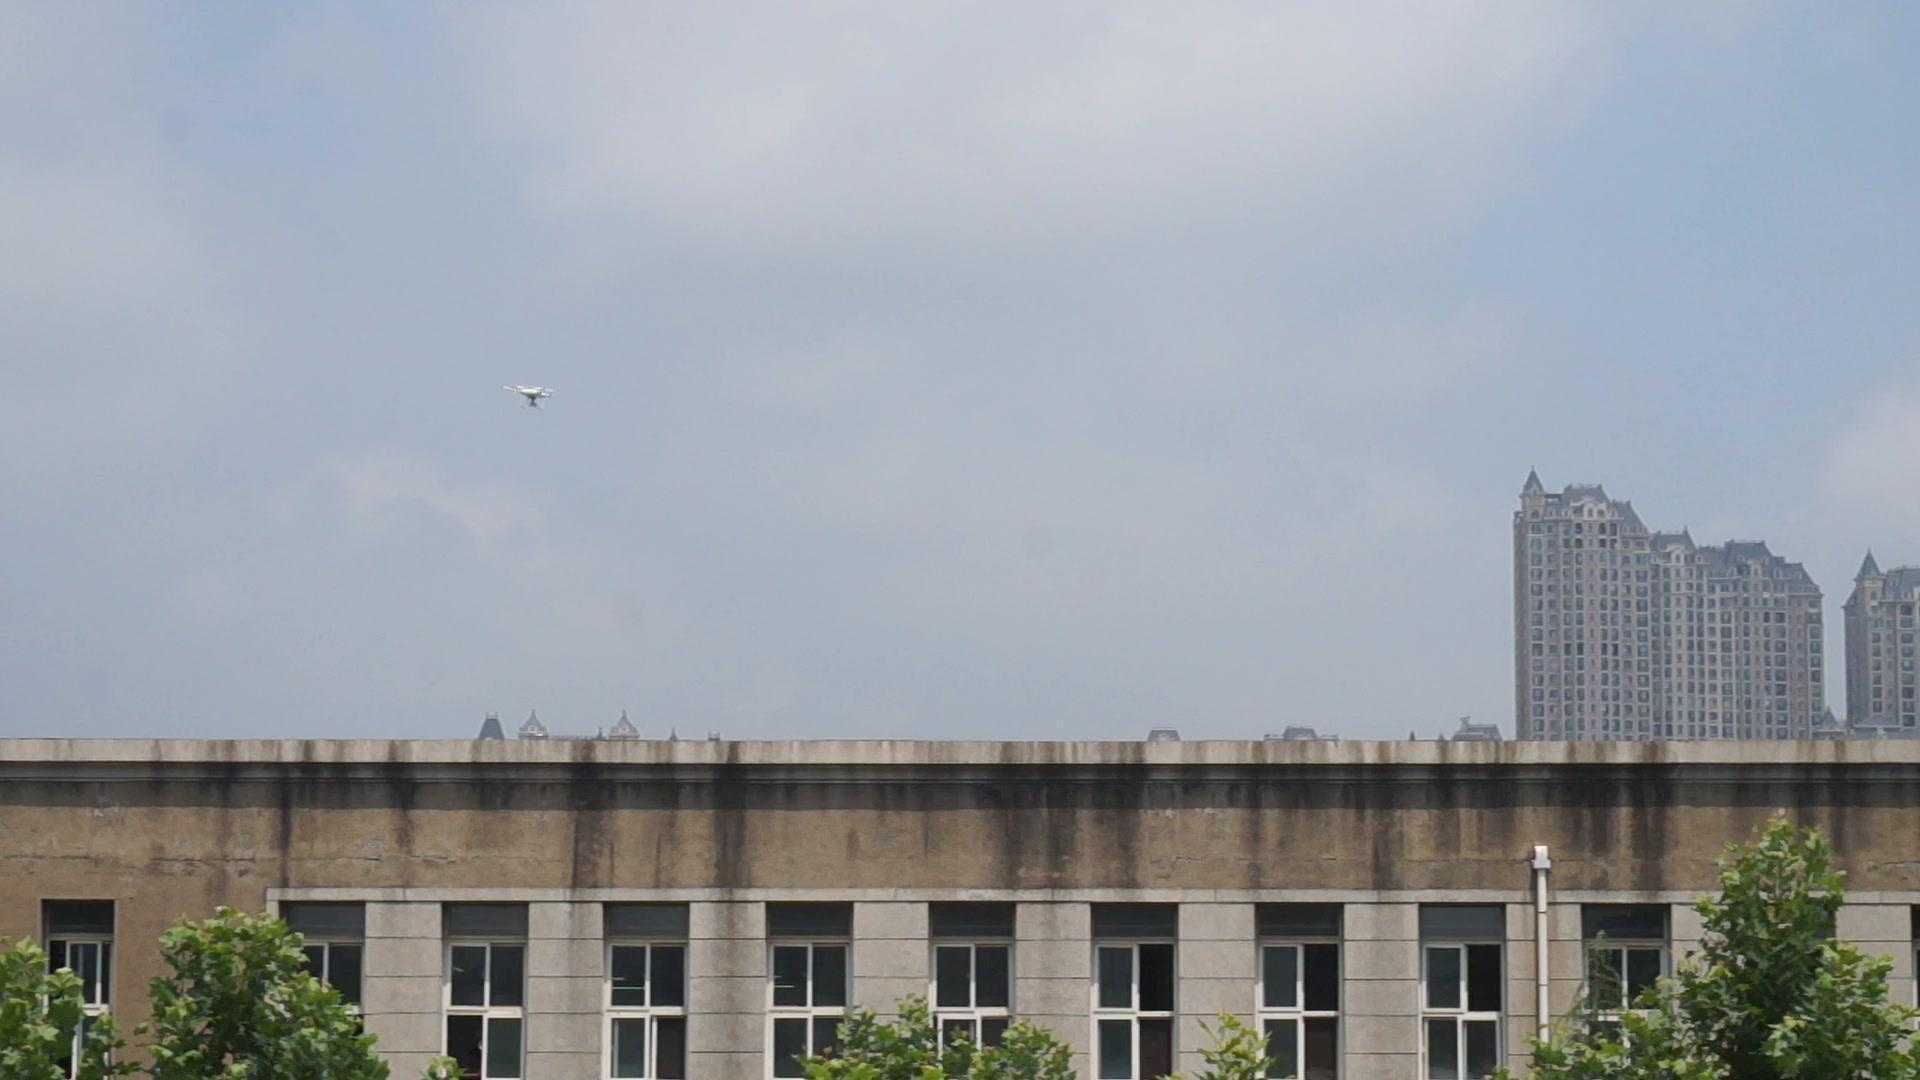UAV: (502, 385, 556, 411)
